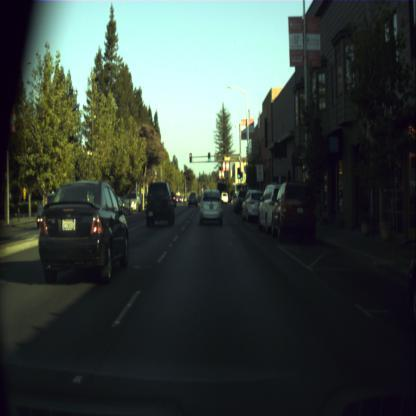Green: (237, 168, 240, 178), (208, 152, 210, 161), (240, 172, 242, 180), (207, 181, 209, 185)
RedLeft: (189, 152, 191, 162)
